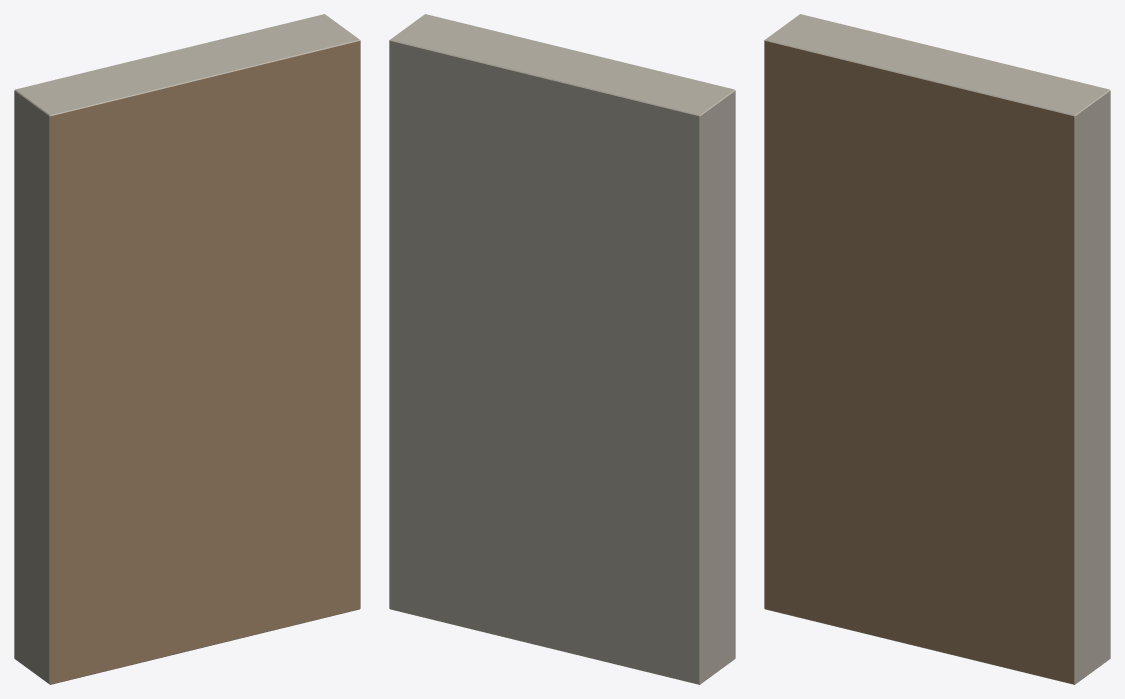
File: arch_wall_ext_w200_h350.glb
3 renders of one model, left to right at view 1: azimuth 30°, elevation 25°; view 2: azimuth 150°, elevation 25°; view 3: azimuth 330°, elevation 25°, orthographic.
Parts seen in each view (by area): view 1: Wall; view 2: Wall; view 3: Wall.
Boxes of the visible parts, <box> form: Wall: <box>14,14,360,684</box>; Wall: <box>389,14,735,684</box>; Wall: <box>764,14,1110,684</box>.
Size of what is drawn, in the model's own units: 2 by 3.5 by 0.4.
